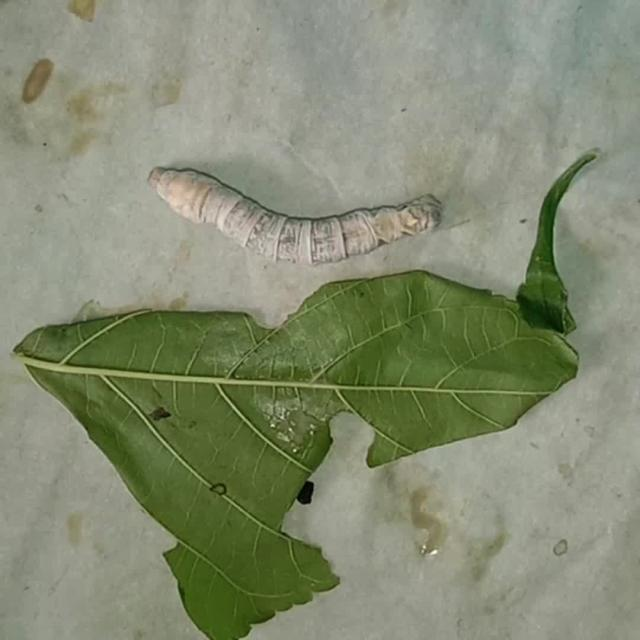Grasserie: (134, 131, 502, 298)
